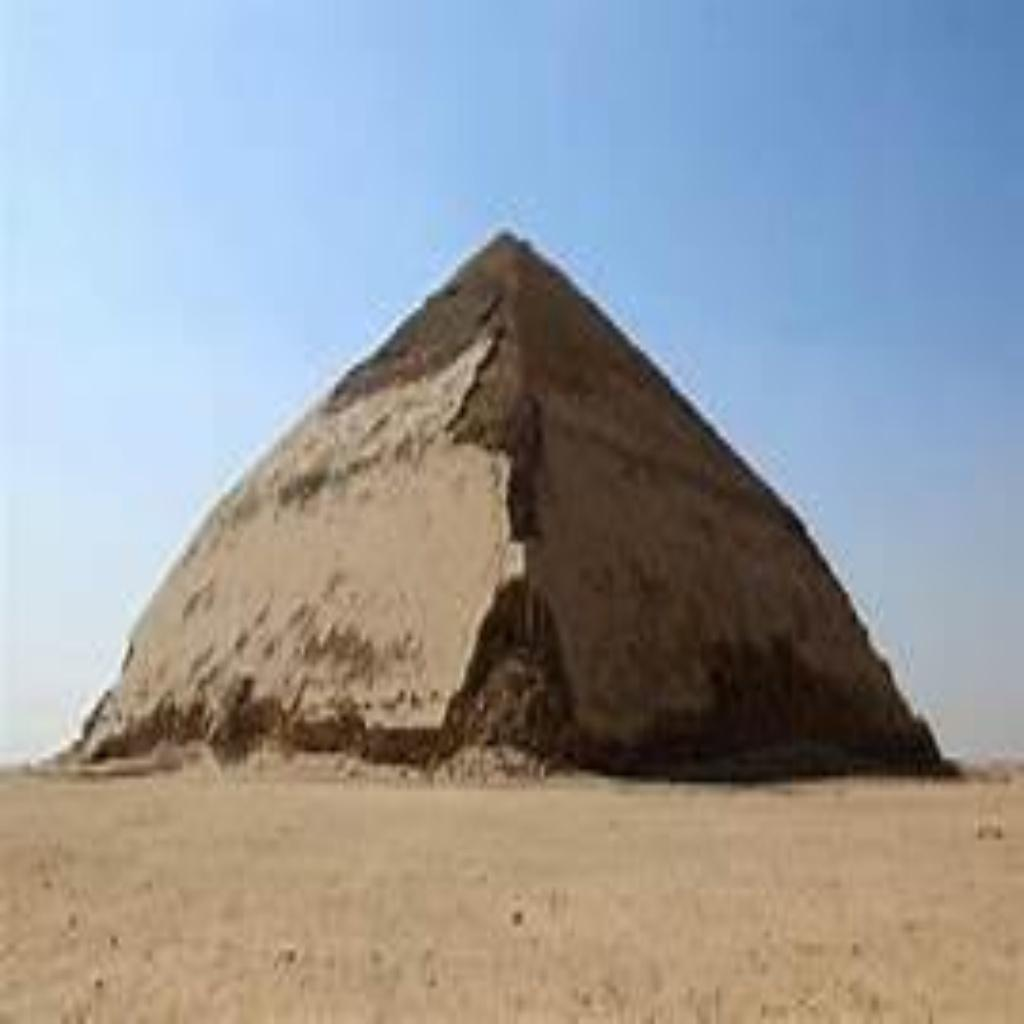Bent Pyramid of King Sneferu: (50, 216, 960, 784)
